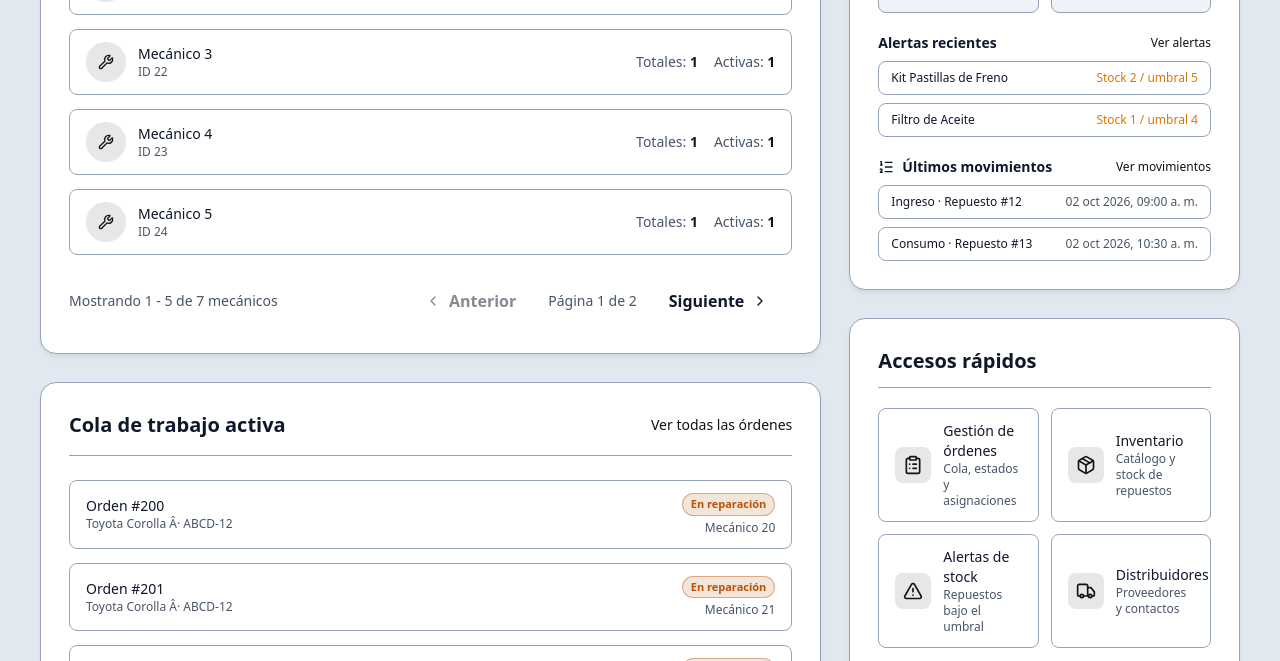
Test: AdminDashboardPage: panel administrativo con indicadores reales › pagina la carga de mecánicos cuando hay más de 5
(page scrolled)
Expected: the text "Mostrando 1 - 5 de 7 mecánicos" is shown, [69,291,278,311]
What coordinates should you click on to do the following:
click the button "Siguiente"
I would click on:
 (718, 301)
Its box is [645,277,792,325].
(page scrolled)
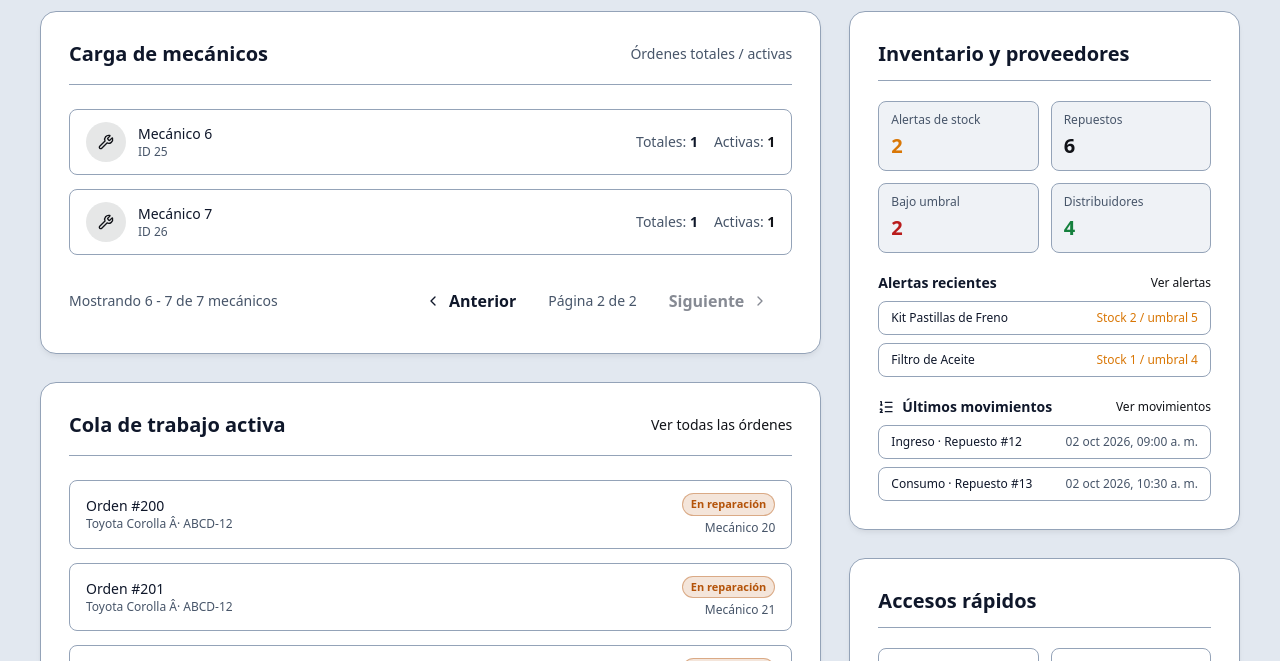
Expected: the text "Mostrando 6 - 7 de 7 mecánicos" is shown, [69,291,278,311]
Expected: the button "Anterior" is enabled, [401,277,540,325]
